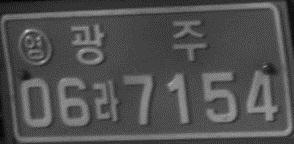0: (18, 77, 53, 128)
1: (161, 72, 197, 124)
4: (244, 69, 279, 121)
5: (200, 71, 239, 123)
6: (56, 76, 92, 127)
7: (122, 73, 154, 125)
광주_D: (69, 19, 208, 64)
라: (92, 79, 120, 123)
영: (17, 28, 52, 66)
